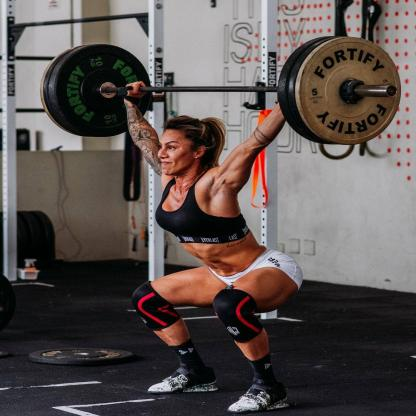barbell: (296, 37, 404, 147), (54, 45, 153, 139)
